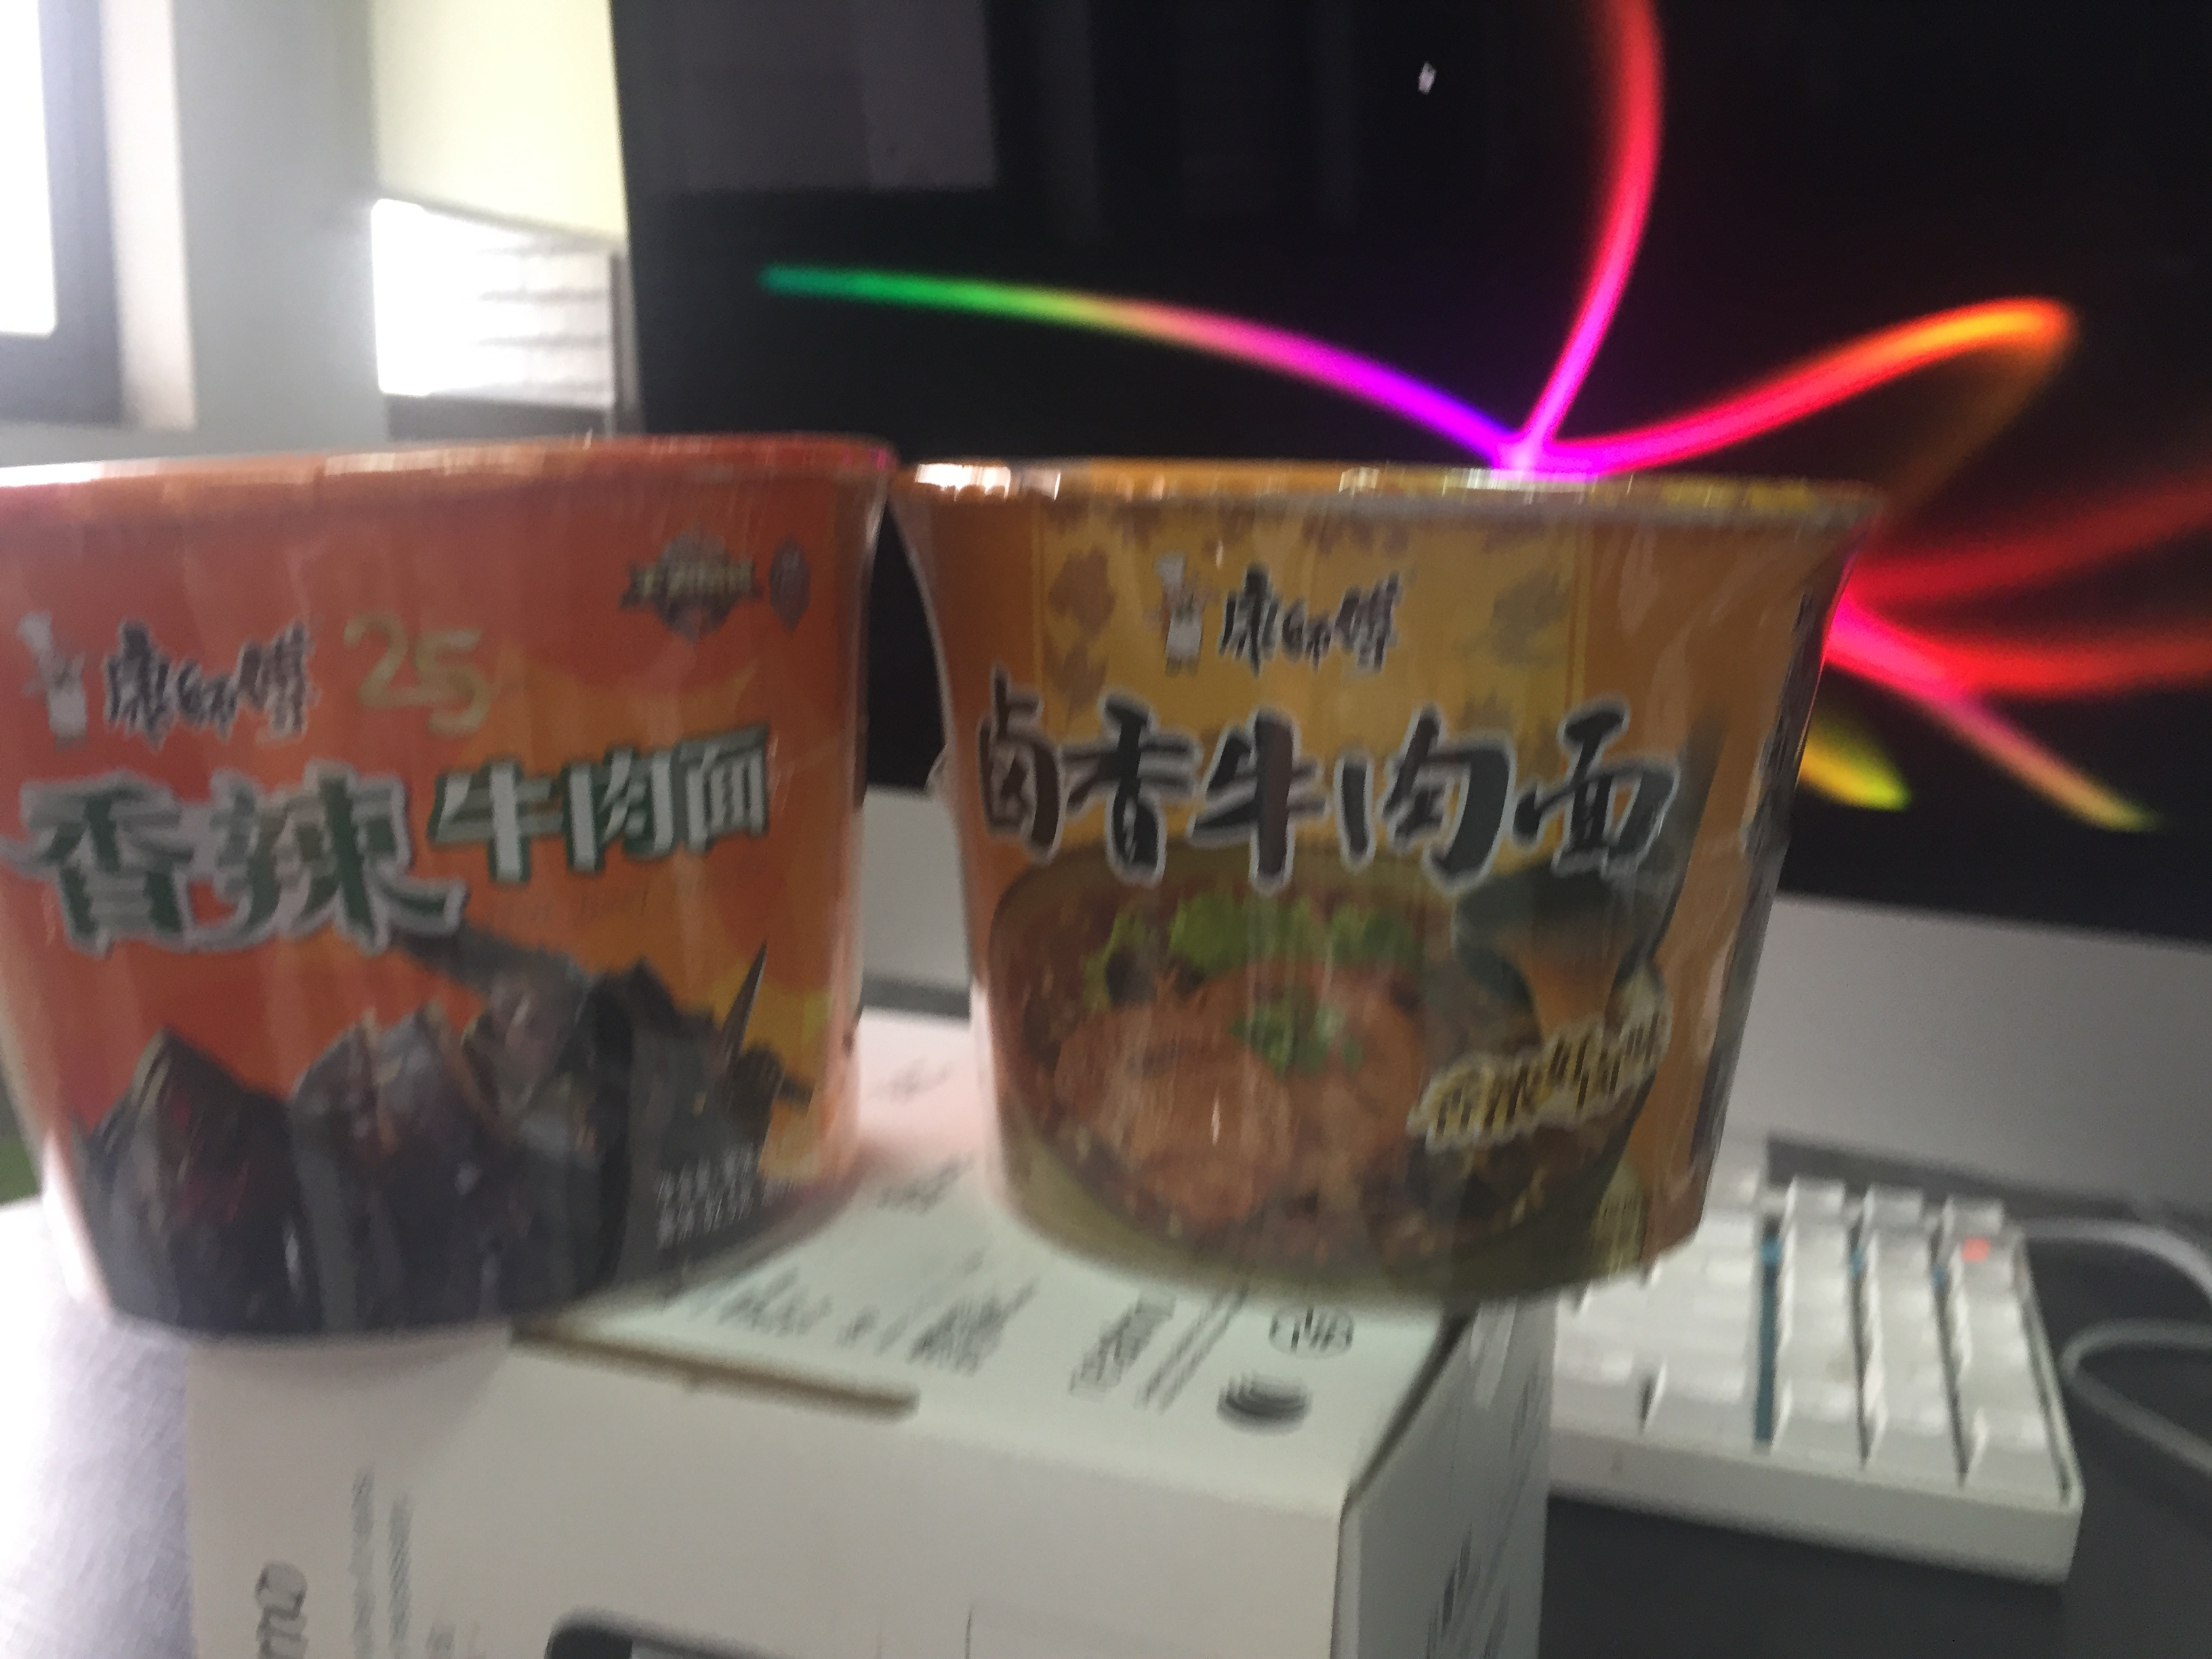luxiang: (892, 460, 1886, 1314)
xiangla: (0, 427, 897, 1347)
